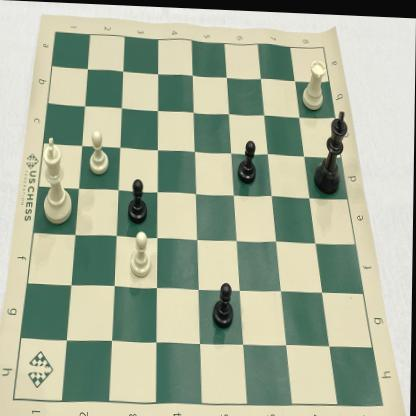black-king: (311, 104, 351, 193)
black-pawn: (232, 130, 260, 187), (125, 169, 150, 226), (212, 277, 237, 329)
white-king: (34, 132, 80, 230)
white-pawn: (127, 225, 155, 282), (86, 126, 114, 182)
white-rook: (298, 48, 328, 111)
